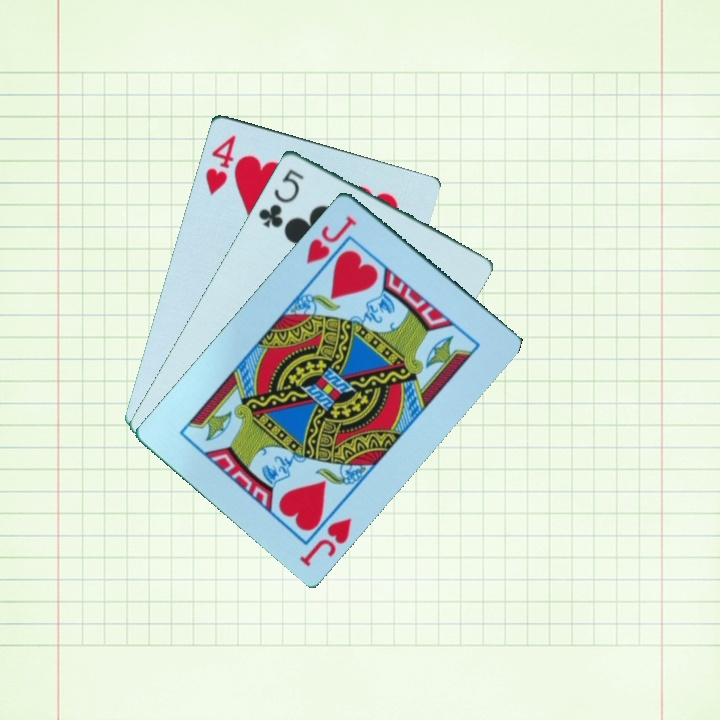4h: (201, 130, 239, 198)
5c: (254, 164, 307, 230)
Jh: (295, 513, 355, 569), (302, 211, 360, 266)
